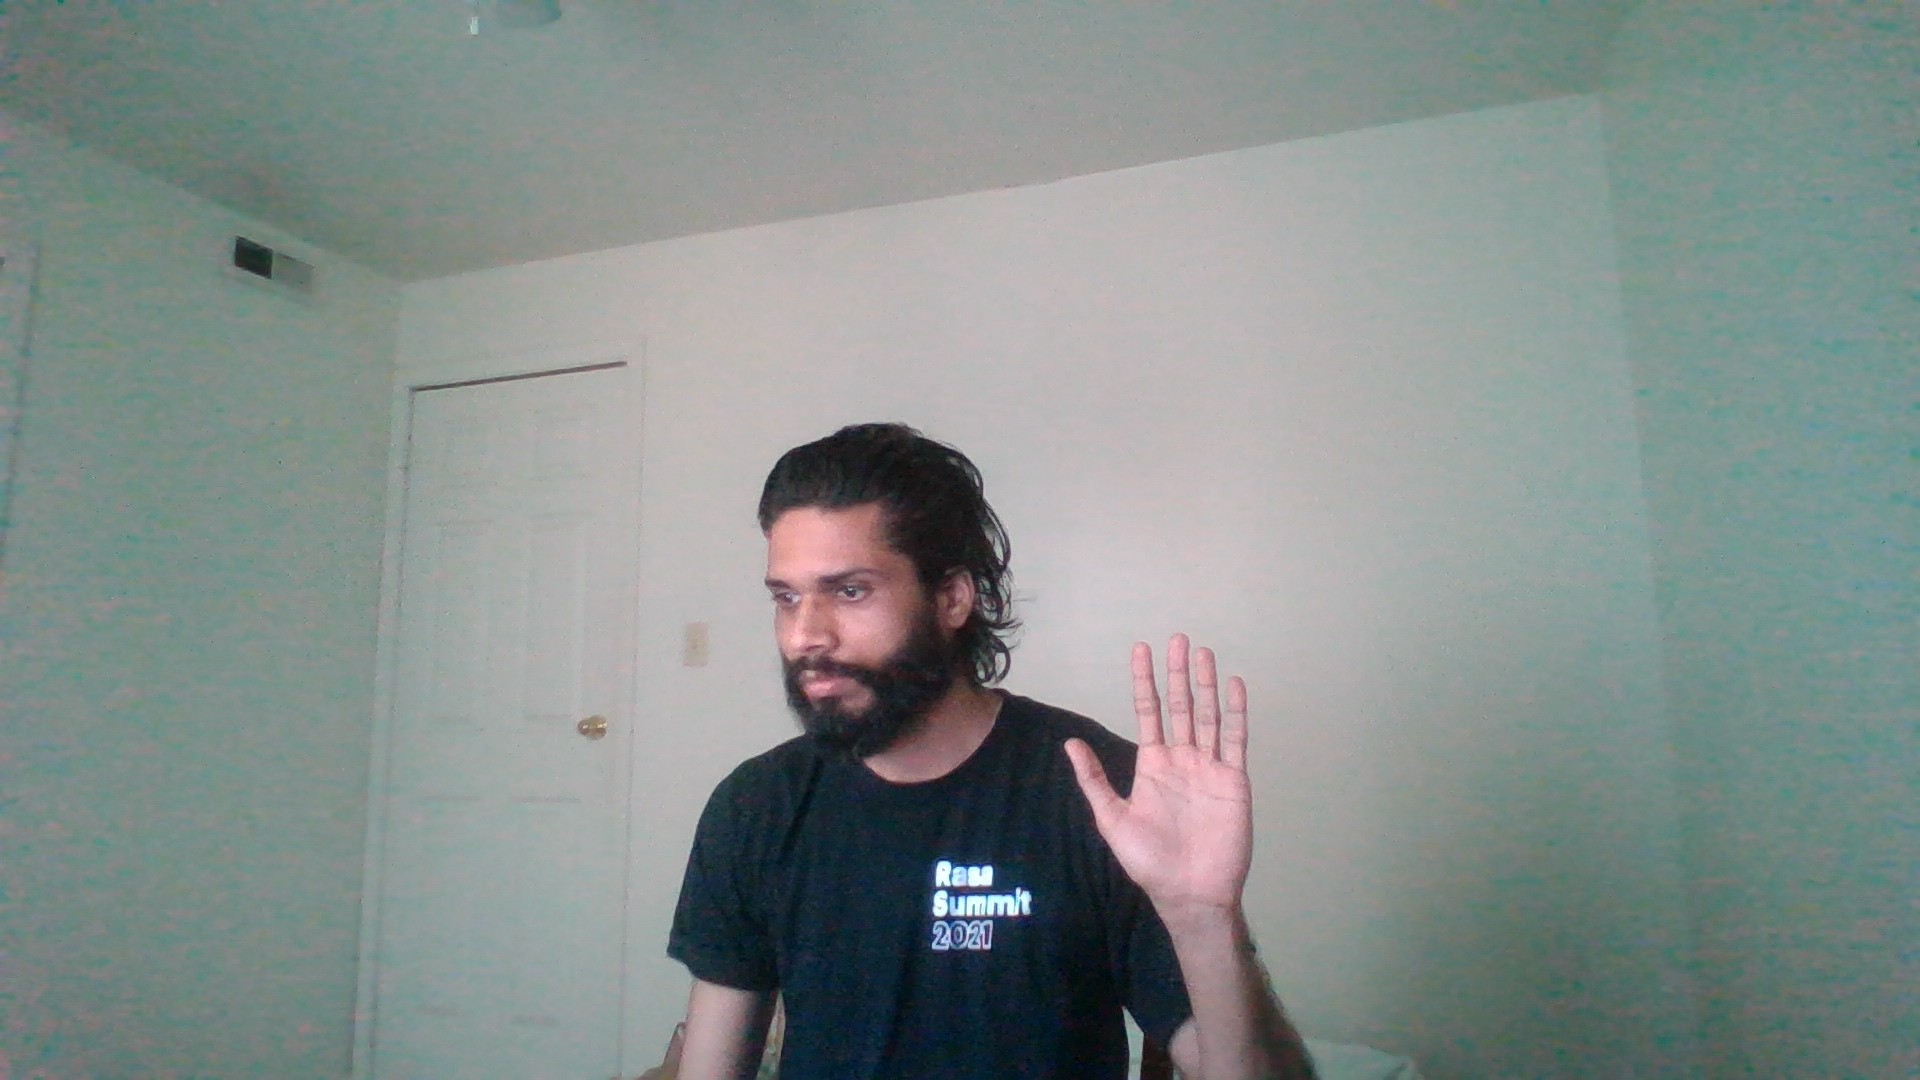Hello: (1043, 615, 1342, 931)
